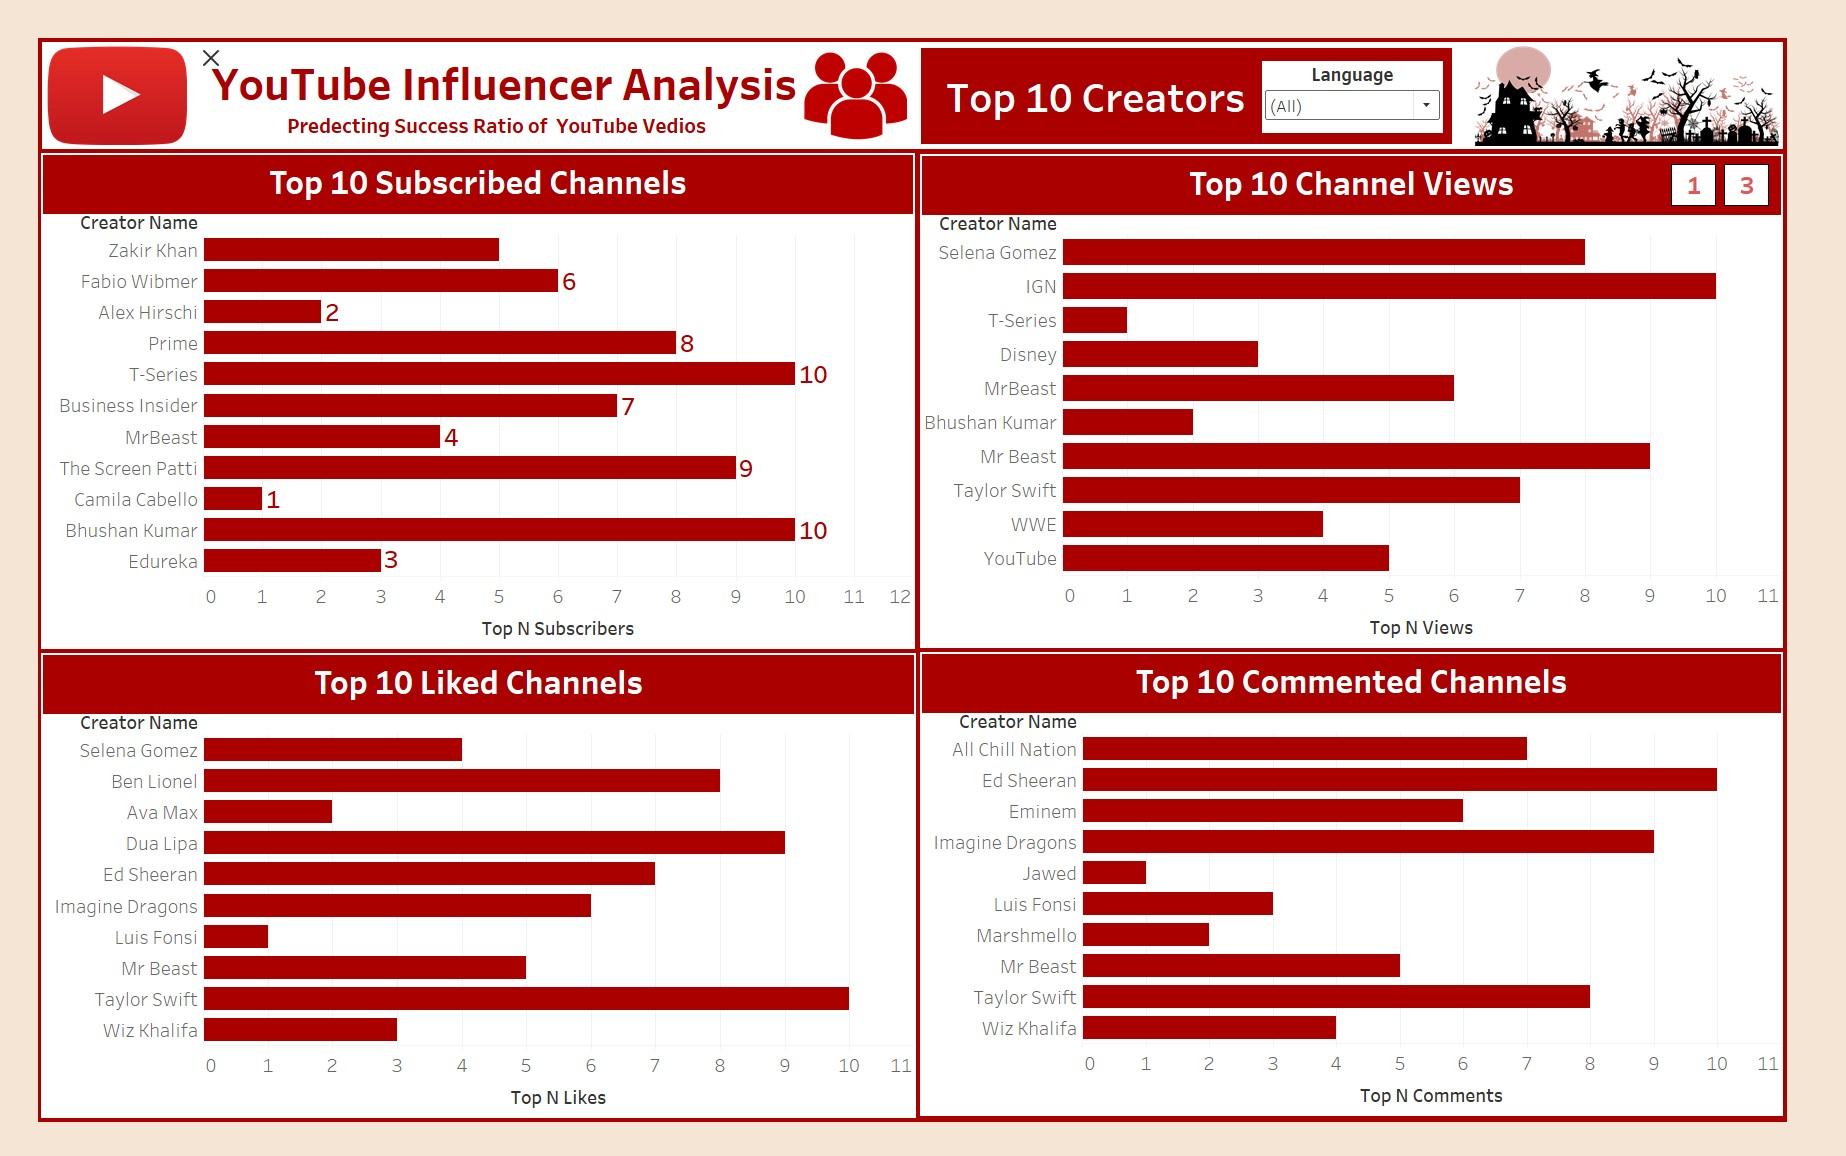

Layout of this report page (visuals, bound fields, positions):
{"tool":"tableau","page":{"name":"DashBoard 2","canvas":[1765,1100],"ordinal":0},"visuals":[{"type":"title","box":[8,8,1749,115]},{"type":"image","param":"Image/multiple-users-silhouette.png","box":[774,14,154,103]},{"type":"image","param":"Image/580b57fcd9996e24bc43c545.png","box":[17,16,152,99]},{"type":"dashboard-object","box":[169,16,24,24]},{"type":"text","box":[891,18,531,96]},{"type":"filter","title":"Top 10 Subscribed Channels","param":"[federated.0cmghbw1i3nk9q184302f0gca3j3].[none:Language of the Video:nk]","box":[1230,29,185,76]},{"type":"worksheet","title":"Top 10 Subscribed Channels","mark":"Automatic","rows":["Creator Name"],"box":[11,123,874,496]},{"type":"worksheet","title":"Top 10 Channel Views","mark":"Automatic","rows":["Creator Name"],"cols":["Calculation_861876411227561984"],"box":[890,124,863,494]},{"type":"dashboard-object","box":[1641,134,45,42]},{"type":"dashboard-object","box":[1694,134,45,42]},{"type":"worksheet","title":"Top 10 Commented Channels","mark":"Automatic","rows":["Creator Name"],"cols":["Top N Views (copy)_861876411236376580"],"box":[890,622,863,464]},{"type":"worksheet","title":"Top 10 Liked Channels","mark":"Automatic","rows":["Creator Name"],"cols":["Top N Views (copy)_861876411235360771"],"box":[11,623,875,465]}]}

Visuals, with their boxes in screenshot pixels (x1, y1, x2, y2), scaled from the page's 1765x1100 canvas onto the 1846x1156 screenshot:
title: l=8, t=8, r=1838, b=129
image: l=810, t=15, r=971, b=123
image: l=18, t=17, r=177, b=121
dashboard-object: l=177, t=17, r=202, b=42
text: l=932, t=19, r=1487, b=120
"Top 10 Subscribed Channels" filter: l=1286, t=30, r=1480, b=110
"Top 10 Subscribed Channels" worksheet: l=12, t=129, r=926, b=651
"Top 10 Channel Views" worksheet: l=931, t=130, r=1833, b=649
dashboard-object: l=1716, t=141, r=1763, b=185
dashboard-object: l=1772, t=141, r=1819, b=185
"Top 10 Commented Channels" worksheet: l=931, t=654, r=1833, b=1141
"Top 10 Liked Channels" worksheet: l=12, t=655, r=927, b=1143
